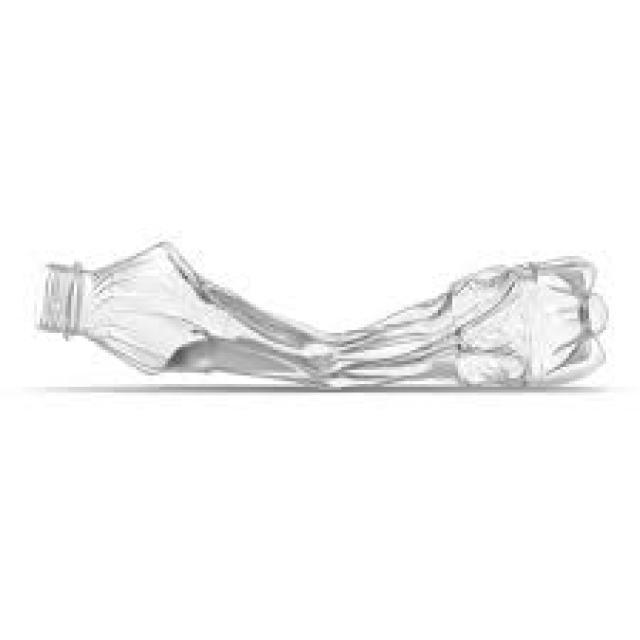trash: (25, 222, 615, 414)
